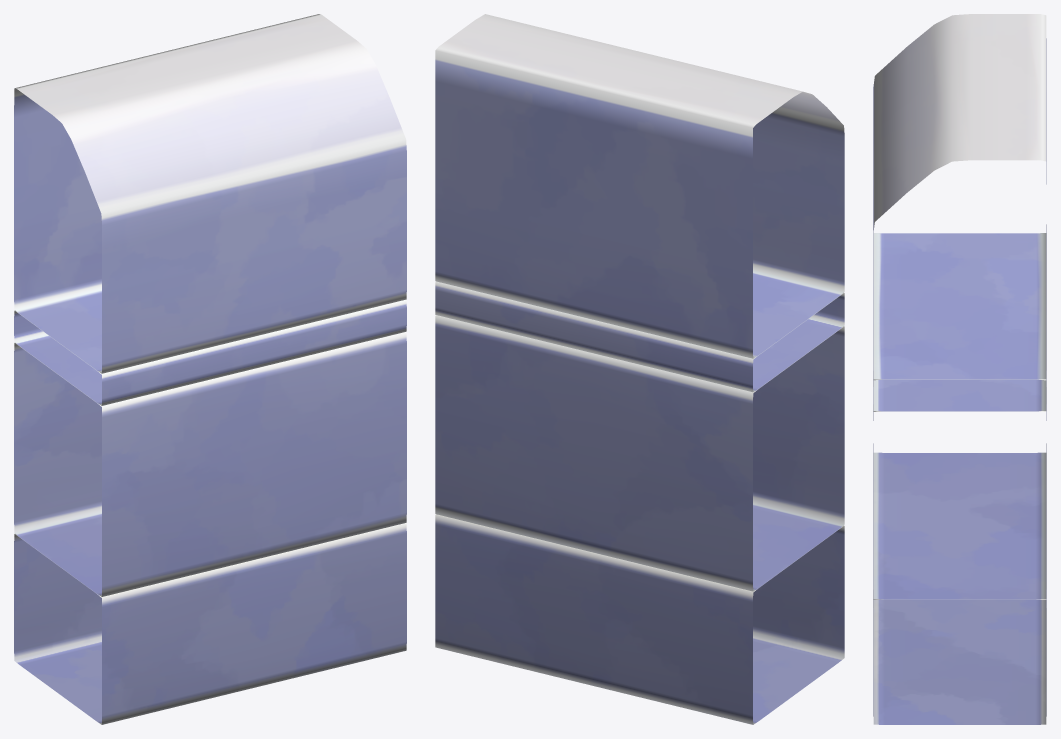
Rendered from LP_ShowcaseWall2.fbx.
3 views of the same model, side by side, from view 1: azimuth 30°, elevation 25°; view 2: azimuth 150°, elevation 25°; view 3: azimuth 270°, elevation 25° (orthographic). The views are drawn at different scales.
Parts seen in each view (by area): view 1: LP_ShowcaseWall2; view 2: LP_ShowcaseWall2; view 3: LP_ShowcaseWall2.
Part boxes in pixels (x1,y1,x2,y2): LP_ShowcaseWall2: (14,14,406,724); LP_ShowcaseWall2: (435,14,844,724); LP_ShowcaseWall2: (873,14,1046,724).
Bounding box in the file's own units: 100 × 180 × 50.
